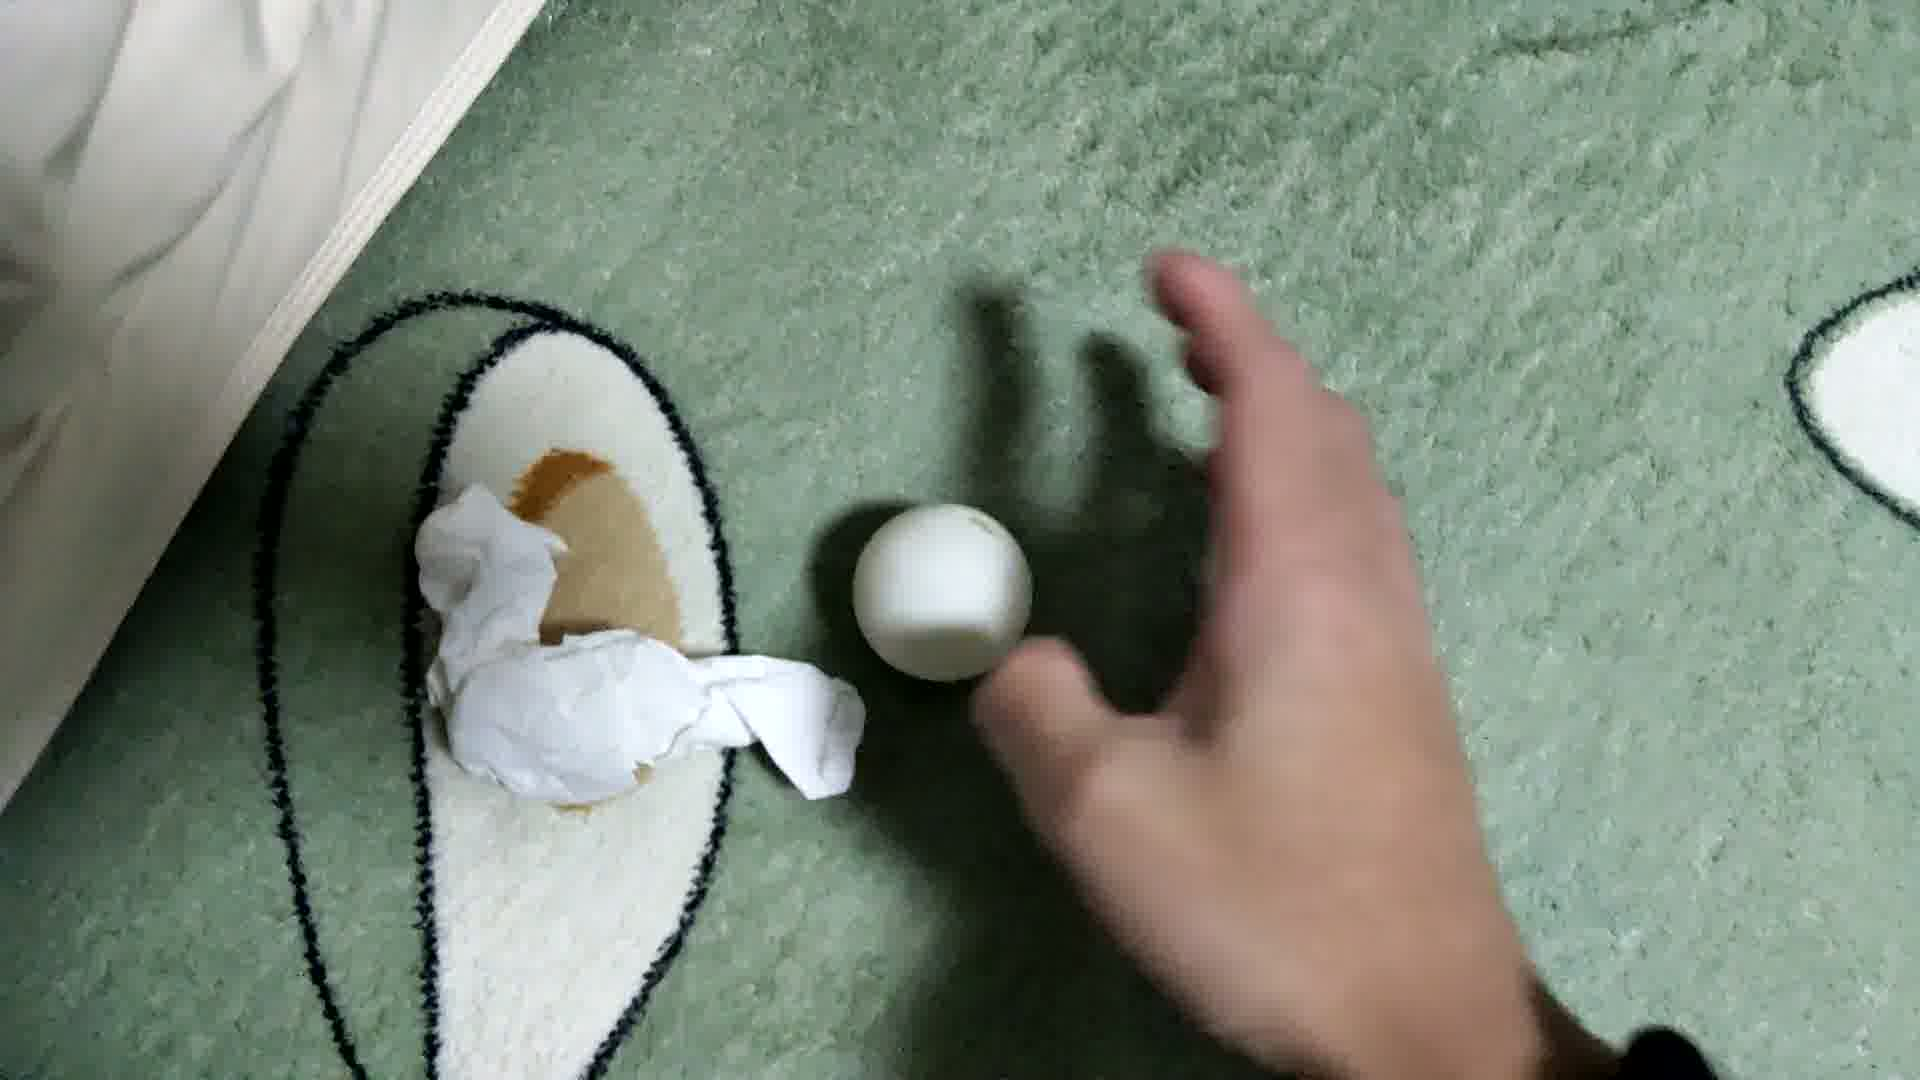Ball: (855, 500, 1033, 682)
